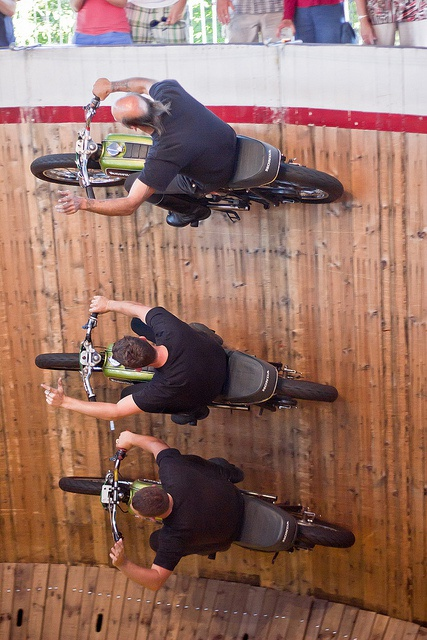non-vehicle: (31, 98, 346, 223), (59, 451, 357, 567), (208, 347, 336, 419)
